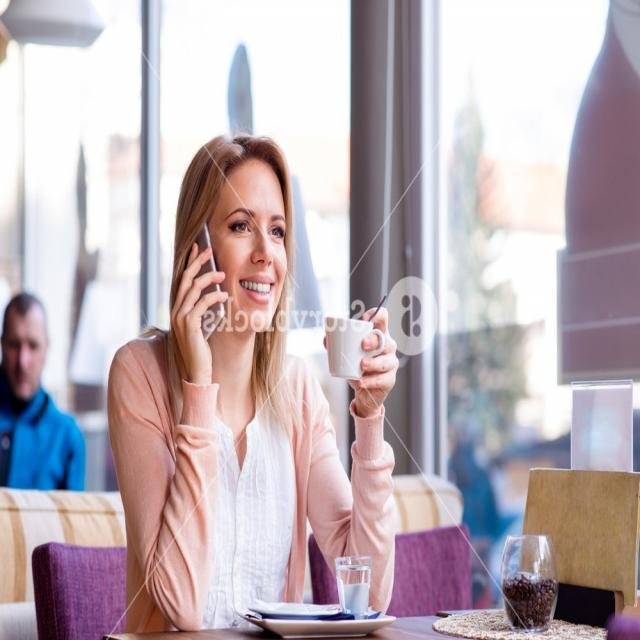phone: (169, 185, 256, 367)
